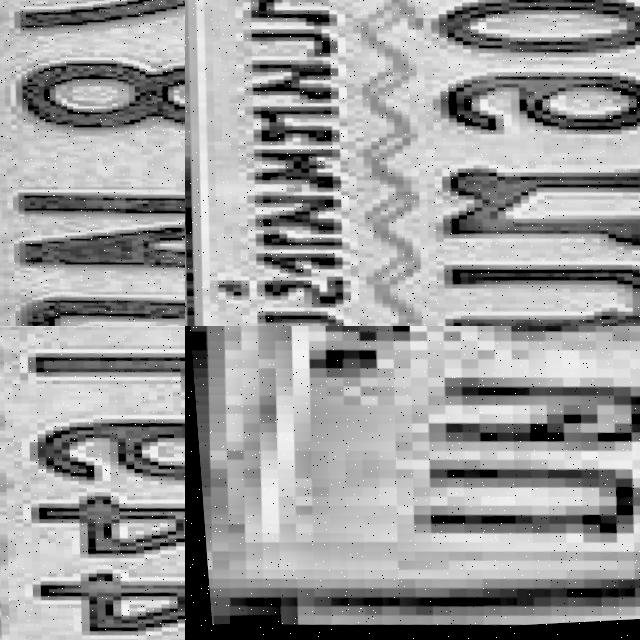license-plate: (185, 0, 640, 326), (185, 326, 640, 640), (0, 0, 185, 326), (0, 326, 185, 640)
